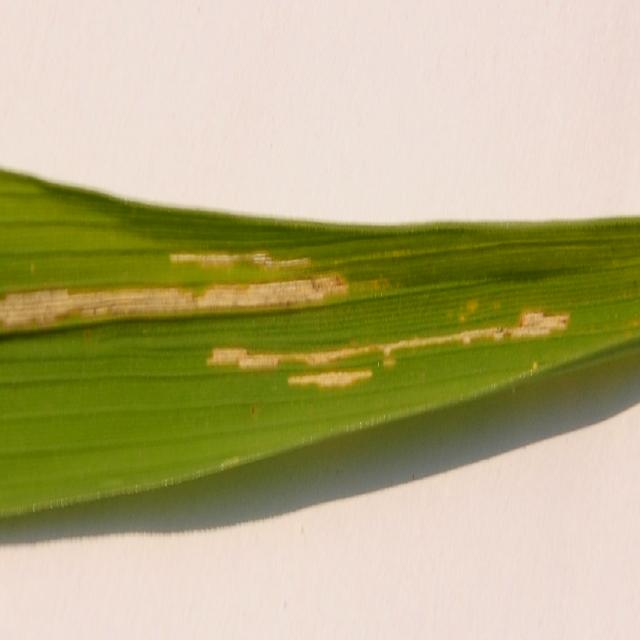leaf blight: (205, 296, 578, 392), (0, 229, 360, 314)
